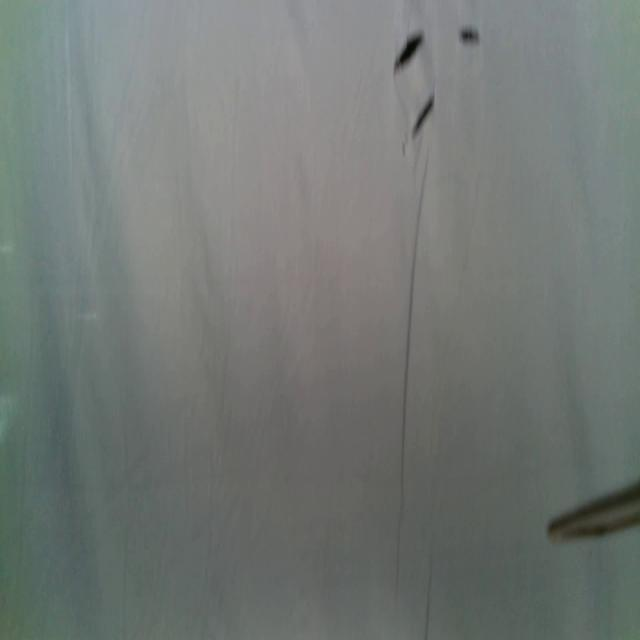crease: (393, 150, 431, 576)
hole: (392, 28, 428, 76), (412, 92, 436, 140), (460, 26, 482, 46)
